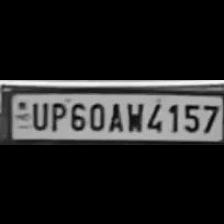0: (86, 98, 106, 130)
1: (162, 99, 180, 131)
4: (144, 99, 164, 131)
5: (180, 99, 200, 131)
6: (66, 98, 86, 130)
7: (200, 99, 220, 133)
A: (106, 99, 124, 130)
P: (48, 99, 66, 130)
U: (26, 98, 48, 130)
W: (122, 98, 144, 132)
